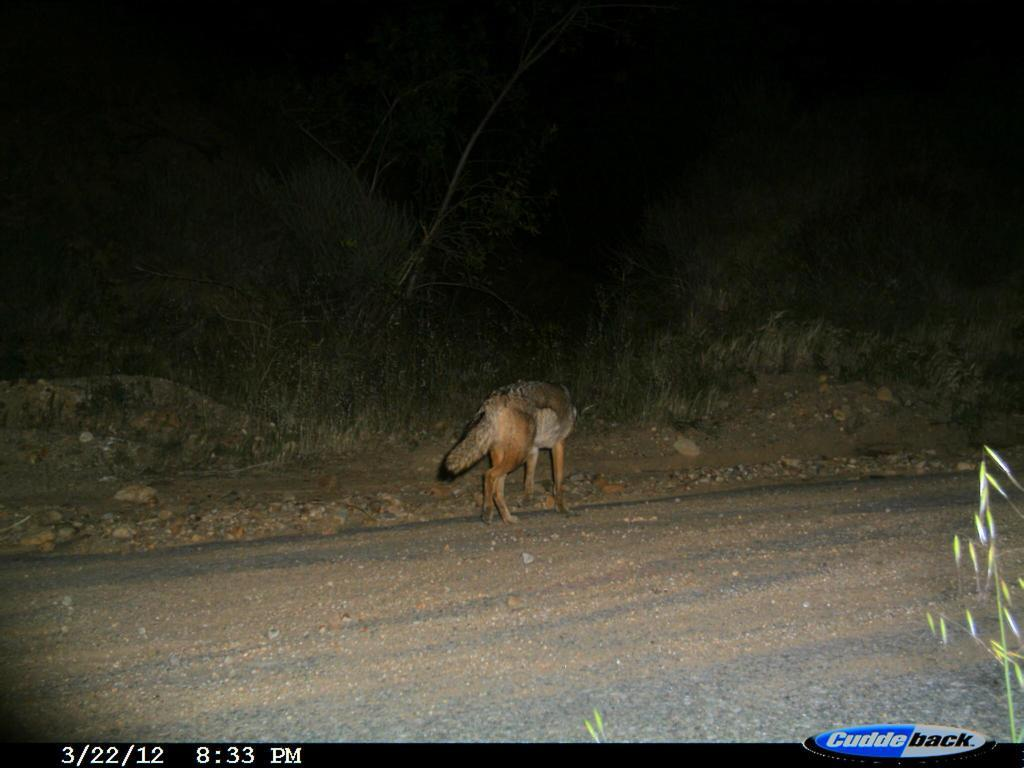coyote: (431, 367, 580, 529)
